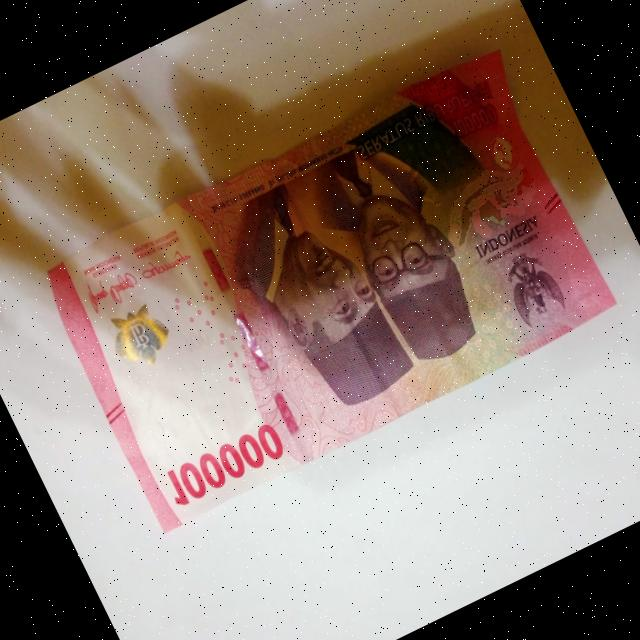100K: (29, 32, 634, 540)
